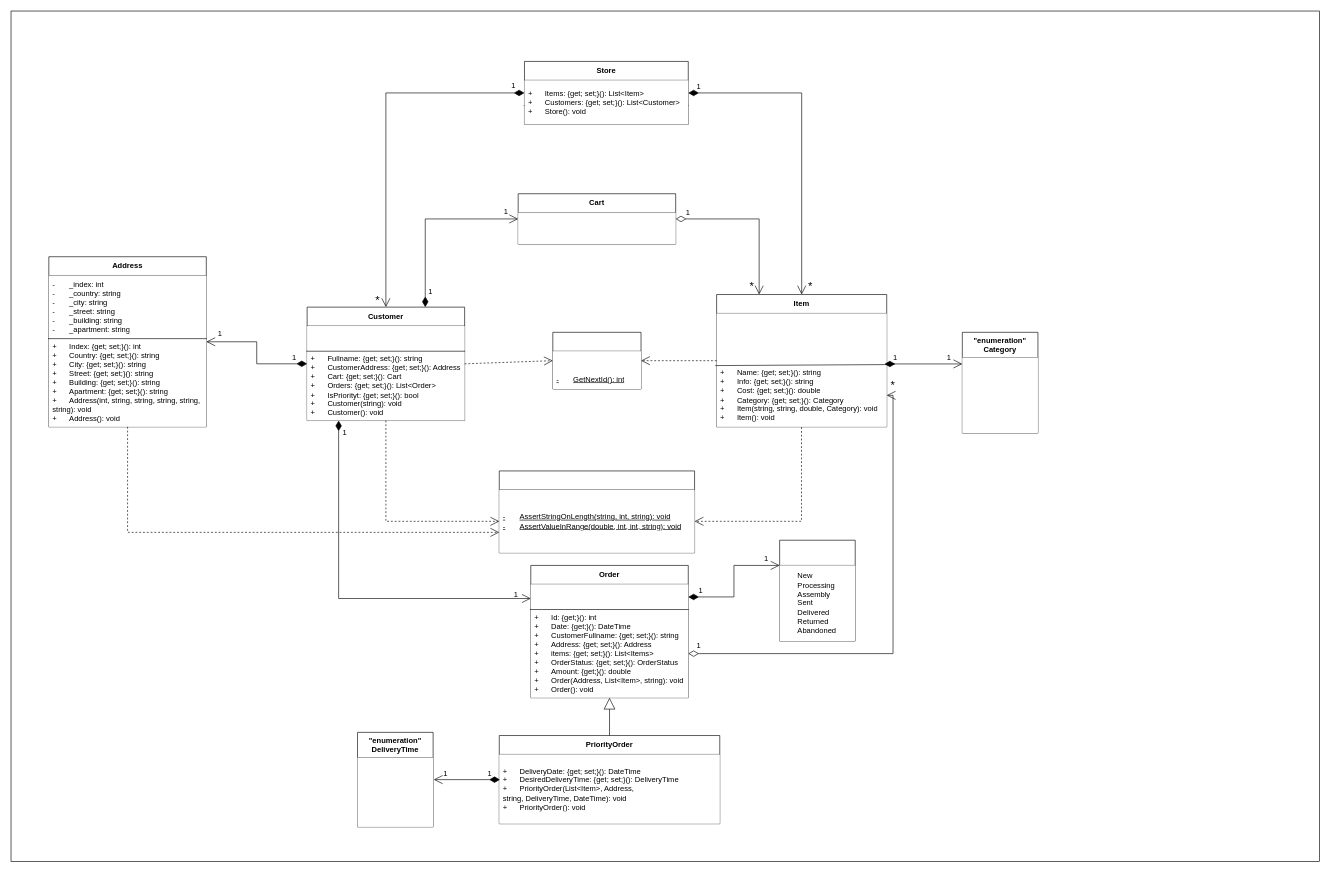
This 1331x873 diagram has some shape labels left out. The shapes that lost their labels are listed below. From the top down, each one's box as (x1, y1, x2, y2) in pixels, then its label:
(518, 212, 675, 244): + Items: {get; set;}(): List<Item> + Amount: {get;}(): double + Cart(): void
(307, 326, 464, 351): - _id: readonly int - _fullname: string
(716, 313, 886, 364): - _id: readonly int - _name: string - _info: string - _cost: double
(552, 332, 641, 389): IdGenerator
(553, 351, 641, 370): - _nextId: int
(962, 357, 1038, 433): Medicine Clothing Products Technique Chancellery Books Groceries
(499, 470, 695, 553): ValueGenerator
(530, 584, 688, 609): - _id: int - _data: DateTime
(779, 540, 855, 641): "enumeration" OrderStatus
(357, 757, 433, 827): Morning Lunch Afternoon Evening LateEvening Night
